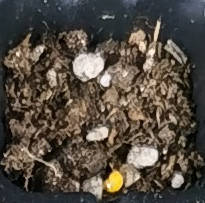chilli seed: (105, 170, 123, 193)
